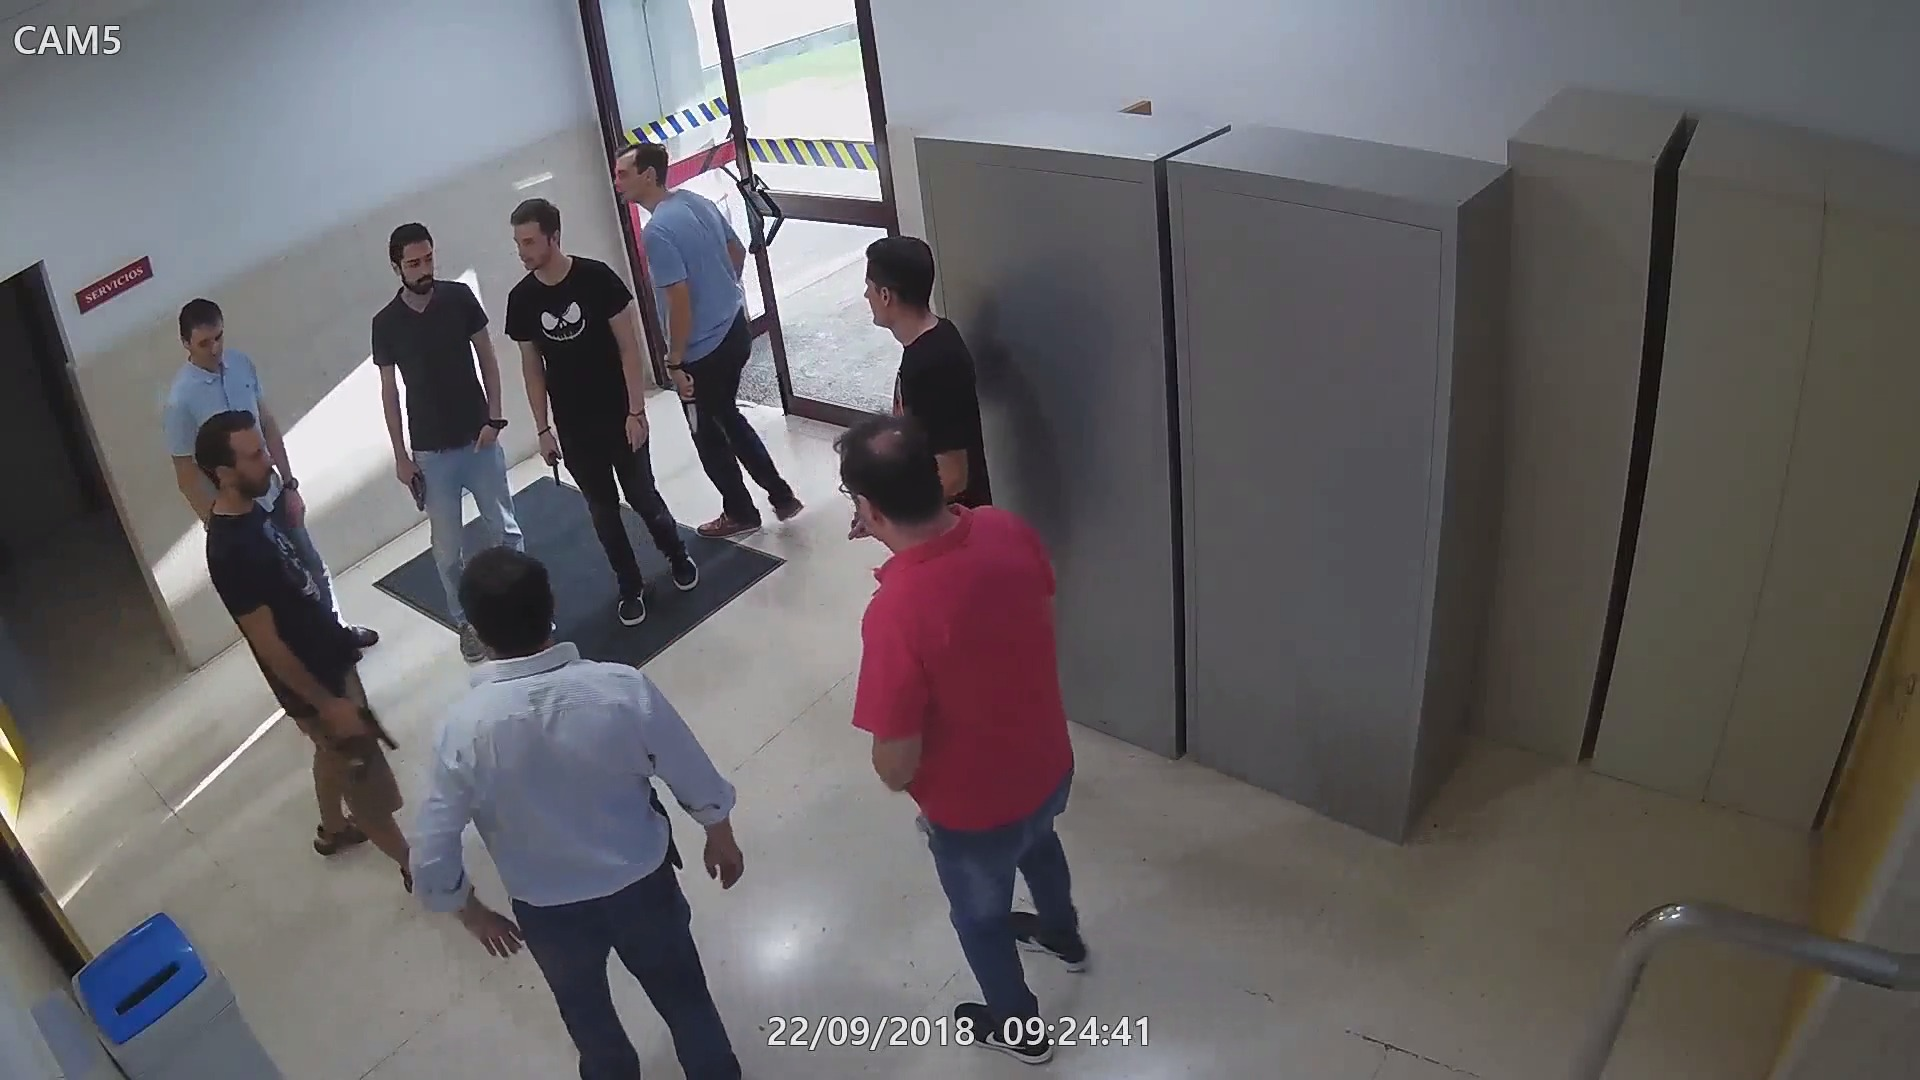Handgun: (316, 700, 407, 756), (653, 791, 686, 869), (386, 454, 427, 516), (535, 430, 567, 487)
Knife: (670, 367, 704, 436)
